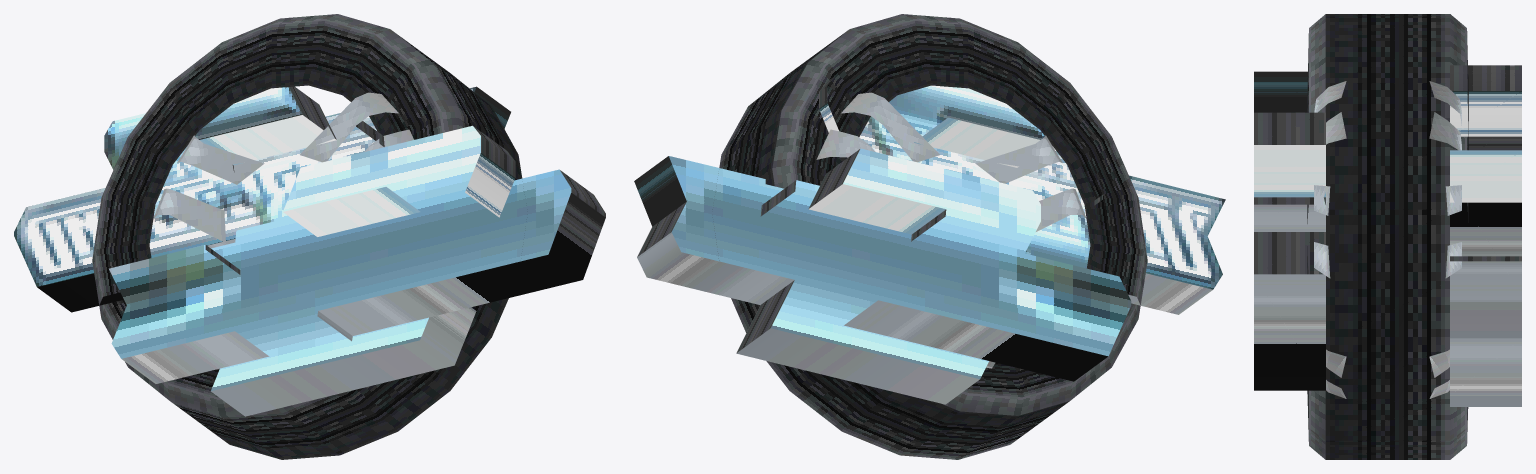
Rendered from ps2_save-icons_needforspeedunderground2.glb.
The picture shows the model from 3 angles, left to right: view 1: azimuth 30°, elevation 25°; view 2: azimuth 150°, elevation 25°; view 3: azimuth 270°, elevation 25°; orthographic projection. The views are drawn at different scales.
Parts seen in each view (by area): view 1: slime1.ico; view 2: slime1.ico; view 3: slime1.ico.
Boxes of the visible parts, x1,y1,x2,y2 form: slime1.ico: [14, 14, 605, 459]; slime1.ico: [634, 14, 1225, 459]; slime1.ico: [1254, 14, 1521, 459].
Size of the model in its own units: 4.7 by 3.81 by 2.27.
1 material, 1 textured.
